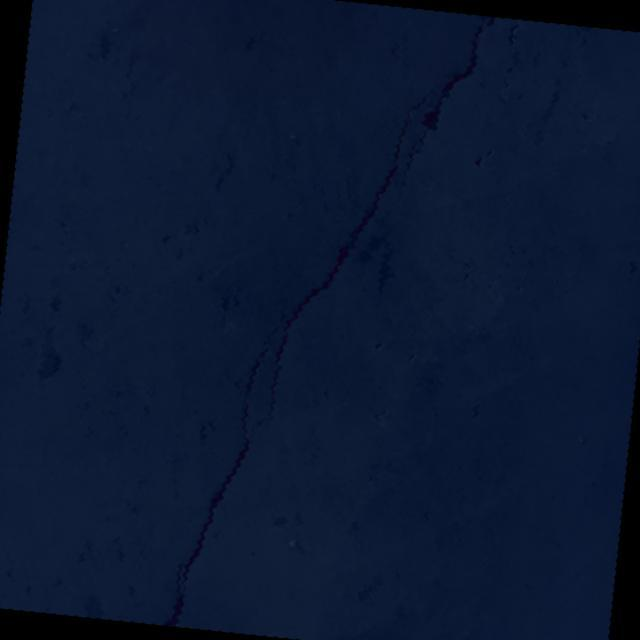crack: (163, 59, 438, 640), (387, 8, 496, 225)
